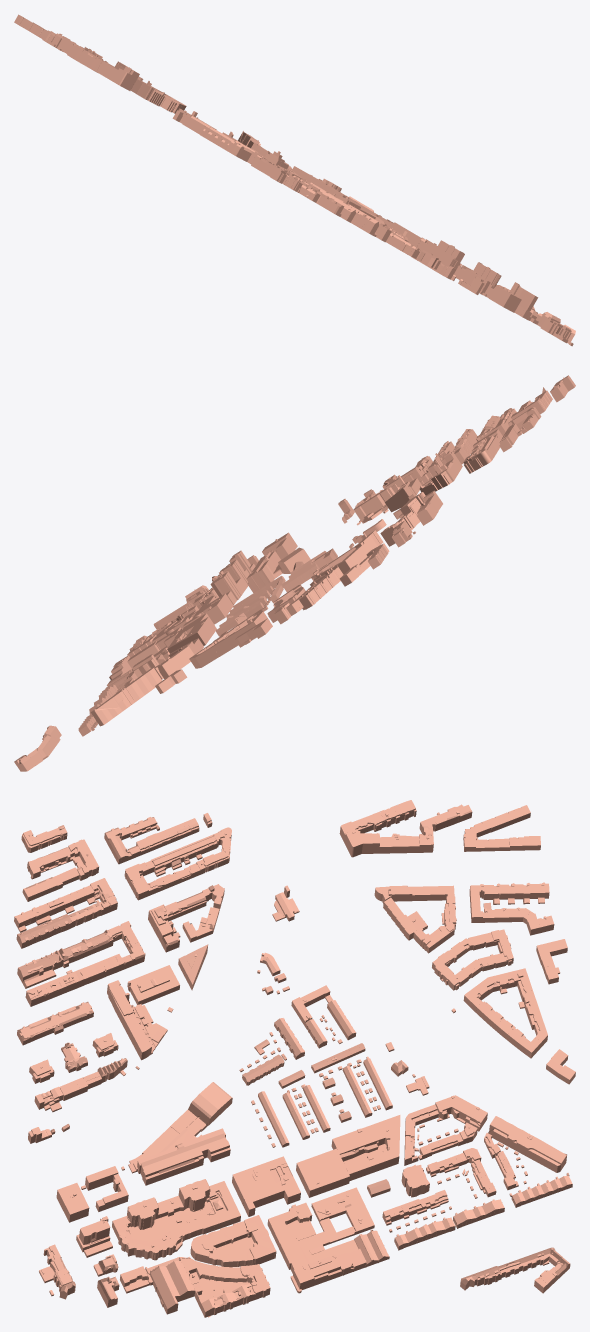
The picture shows the model from 3 angles, top to bottom: view 1: azimuth 30°, elevation 25°; view 2: azimuth 150°, elevation 25°; view 3: azimuth 270°, elevation 25°; orthographic projection. The views are drawn at different scales.
Size of the model in its own units: 1.76e+07 by 1.31e+07 by 2.06e+07.
